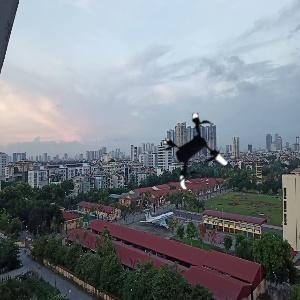drone: (158, 115, 238, 195)
